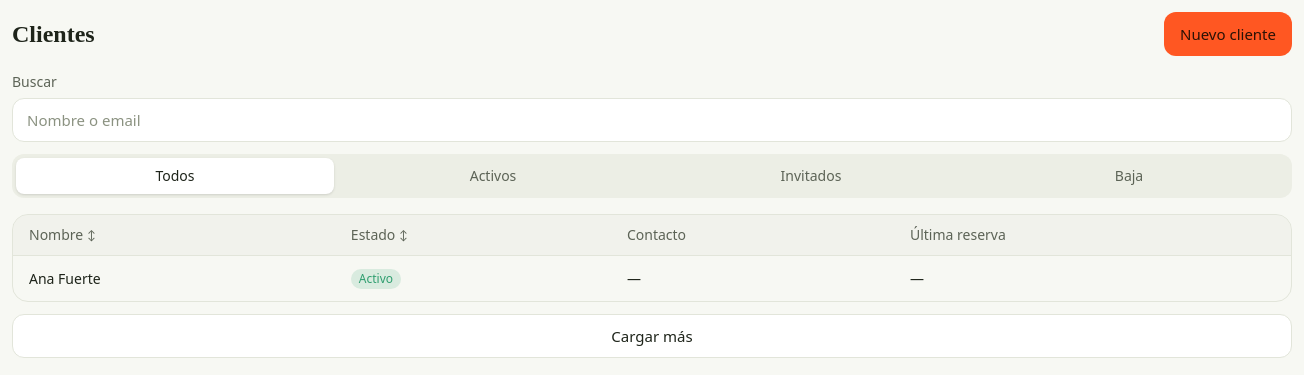
Clients (F3-05) › "Cargar más" agrega la página siguiente sin duplicar
The image size is (1304, 375).
Click the button "Cargar más": (652, 336) [12, 314, 1292, 358]
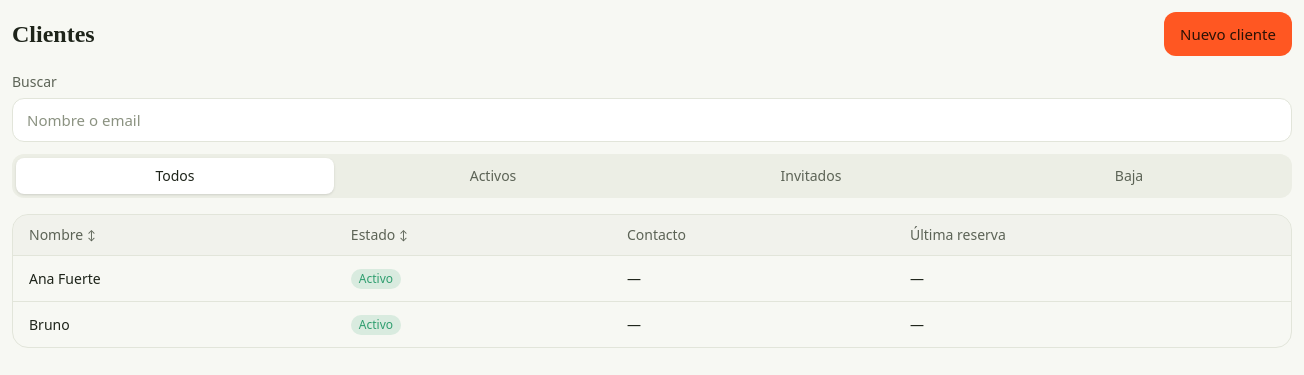
Expected: the text "Ana Fuerte" is shown, [13, 256, 335, 302]
Expected: the button "Cargar más" is gone
Expected: the text "Bruno" is shown, [13, 302, 335, 347]
